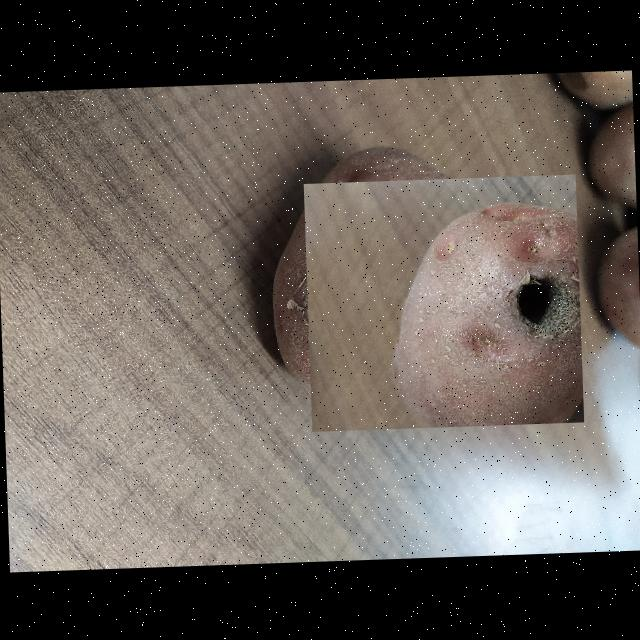Damaged potato: (302, 173, 582, 430)
